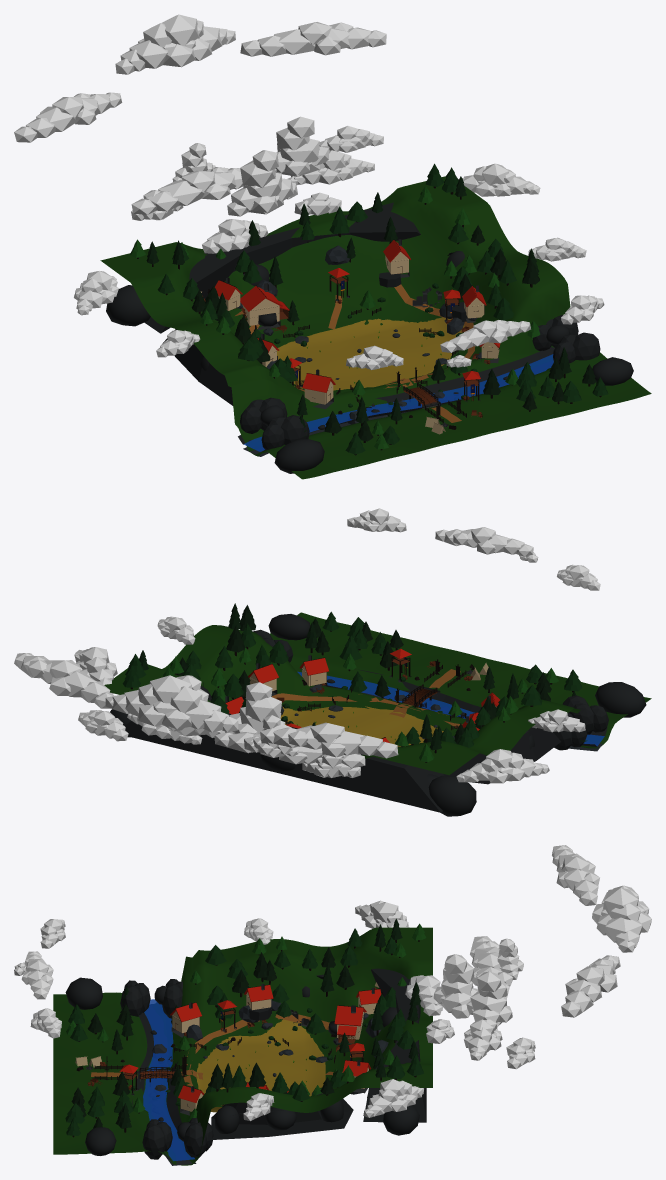
File: arenas.obj
The picture shows the model from 3 angles, top to bottom: view 1: azimuth 30°, elevation 25°; view 2: azimuth 150°, elevation 25°; view 3: azimuth 270°, elevation 25°; orthographic projection. The views are drawn at different scales.
Parts seen in each view (by area): view 1: Terrain_Main, Terrain_Arena, Cliff_North, Cloud_Distant_NorthCenter, Cloud_Distant_NorthEast, Cloud_Center_Hero_Tower, Cloud_Center_High_Billow, Cloud_Distant_NorthWest, Cloud_Upper_Tower_East, Water_Surface, Cloud_East_Grand_Cliff, Cloud_South_Billow_Center (+18 smaller); view 2: Terrain_Main, Cliff_North, Cloud_Distant_NorthCenter, Terrain_Arena, Cloud_Distant_NorthWest, Cloud_Distant_NorthEast, Cloud_West_Grand_Ocean, Cloud_South_Billow_Center, Cloud_Center_Hero_Tower, Boundary_Rock_NW, Cloud_Center_High_Billow, Boundary_Rock_SW (+18 smaller); view 3: Terrain_Main, Terrain_Arena, Water_Surface, Cloud_Distant_NorthCenter, Cliff_East, Cloud_Distant_NorthEast, Cliff_North, Cloud_Center_Hero_Tower, Cloud_Distant_NorthWest, Cloud_Upper_Tower_East, Cloud_East_Grand_Cliff, Cloud_Center_High_Billow (+26 smaller).
Boxes of the visible parts, left/top/right/bottom form: Terrain_Main: left=100, top=176, right=651, bottom=479; Terrain_Arena: left=277, top=317, right=465, bottom=390; Cliff_North: left=144, top=202, right=420, bottom=333; Cloud_Distant_NorthCenter: left=115, top=14, right=235, bottom=74; Cloud_Distant_NorthEast: left=240, top=22, right=386, bottom=56; Cloud_Center_Hero_Tower: left=227, top=150, right=297, bottom=216; Cloud_Center_High_Billow: left=131, top=167, right=243, bottom=214; Cloud_Distant_NorthWest: left=14, top=92, right=122, bottom=142; Cloud_Upper_Tower_East: left=275, top=116, right=329, bottom=176; Water_Surface: left=243, top=354, right=553, bottom=451; Cloud_East_Grand_Cliff: left=458, top=163, right=540, bottom=196; Cloud_South_Billow_Center: left=440, top=320, right=530, bottom=352; Terrain_Main: left=104, top=612, right=651, bottom=775; Cliff_North: left=124, top=713, right=444, bottom=812; Cloud_Distant_NorthCenter: left=105, top=675, right=238, bottom=732; Terrain_Arena: left=280, top=706, right=443, bottom=746; Cloud_Distant_NorthWest: left=260, top=722, right=398, bottom=758; Cloud_Distant_NorthEast: left=14, top=653, right=114, bottom=708; Cloud_West_Grand_Ocean: left=456, top=749, right=549, bottom=783; Cloud_South_Billow_Center: left=435, top=527, right=533, bottom=556; Cloud_Center_Hero_Tower: left=225, top=682, right=291, bottom=733; Boundary_Rock_NW: left=428, top=775, right=476, bottom=816; Cloud_Center_High_Billow: left=214, top=732, right=365, bottom=768; Boundary_Rock_SW: left=595, top=682, right=646, bottom=717; Terrain_Main: left=53, top=927, right=432, bottom=1165; Terrain_Arena: left=196, top=1019, right=325, bottom=1112; Water_Surface: left=143, top=999, right=194, bottom=1161; Cloud_Distant_NorthCenter: left=592, top=885, right=651, bottom=952; Cliff_East: left=211, top=1089, right=353, bottom=1139; Cloud_Distant_NorthEast: left=561, top=955, right=620, bottom=1017; Cliff_North: left=363, top=968, right=426, bottom=1122; Cloud_Center_Hero_Tower: left=433, top=954, right=477, bottom=1018; Cloud_Distant_NorthWest: left=552, top=845, right=599, bottom=905; Cloud_Upper_Tower_East: left=466, top=971, right=512, bottom=1030; Cloud_East_Grand_Cliff: left=363, top=1079, right=423, bottom=1117; Cloud_Center_High_Billow: left=470, top=936, right=513, bottom=999.
Bounding box in the file's own units: 160 × 71.54 × 202.
